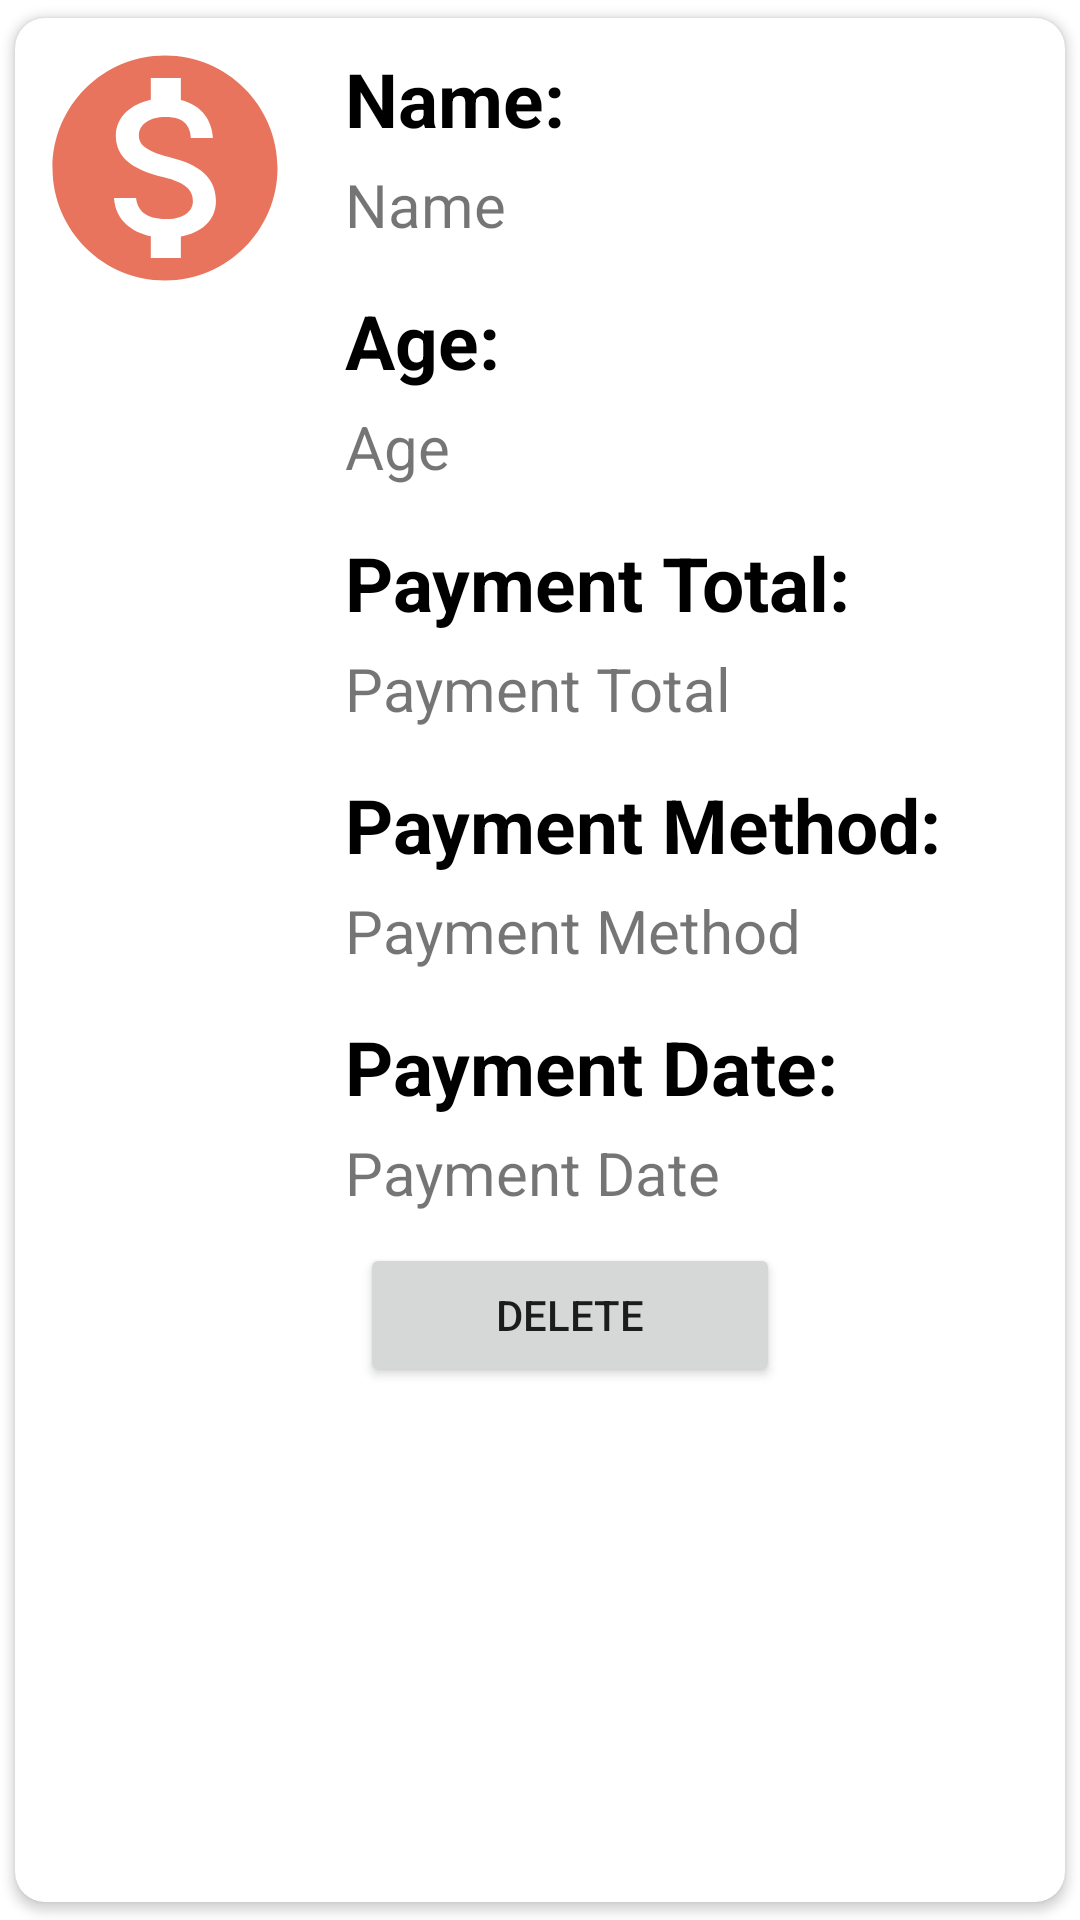

Screen size 1080*1920. Icon name, then its center in pixels as [x,y]:
money: [165,168]
